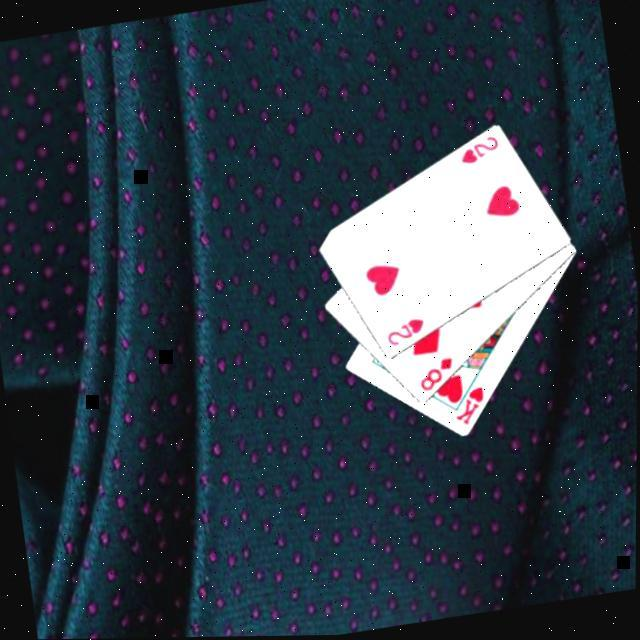2H: (452, 136, 501, 173), (380, 317, 428, 354)
8D: (413, 358, 458, 400)
KH: (448, 386, 489, 433)
